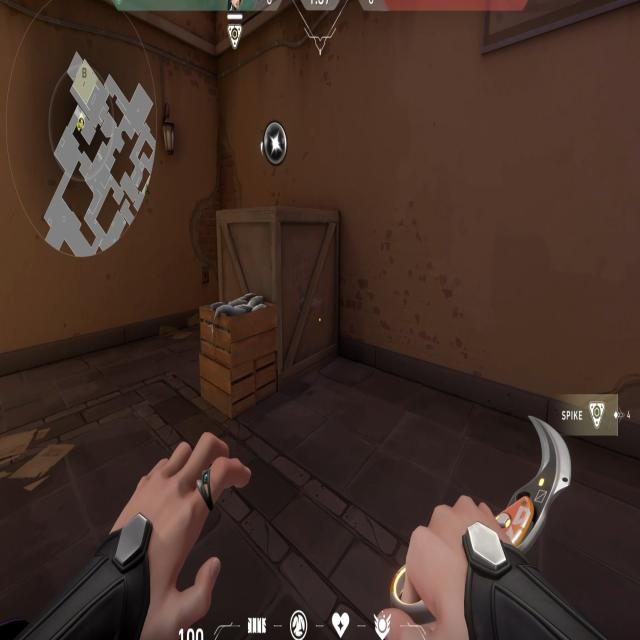B_Main_Wallbang: (170, 106, 291, 388)
